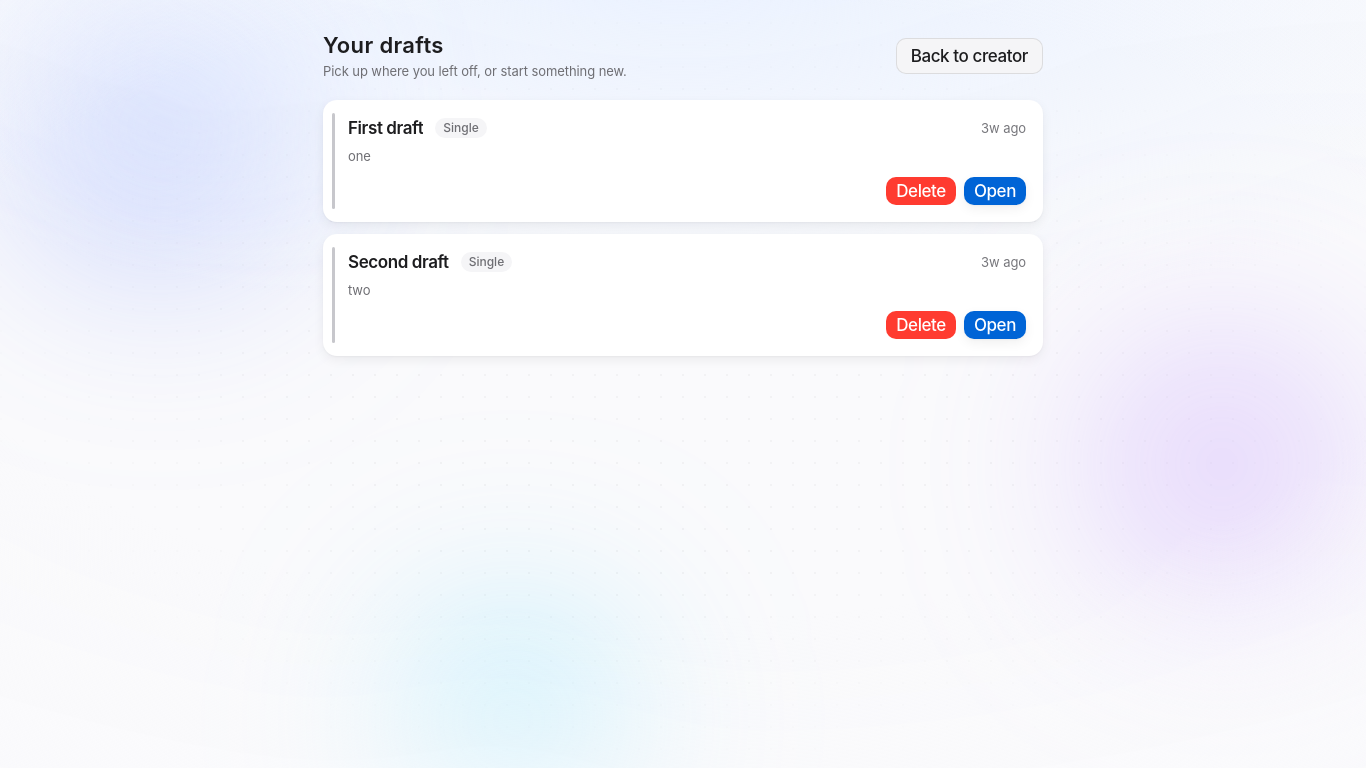
Test: DraftsDashboard › keeps the card and shows an error when delete fails
expect the link "First draft" is shown: met, box x1=348 y1=118 x2=423 y2=138
Step 1. Click the 1st button "Delete" → x=921, y=190, box x1=886 y1=176 x2=956 y2=204
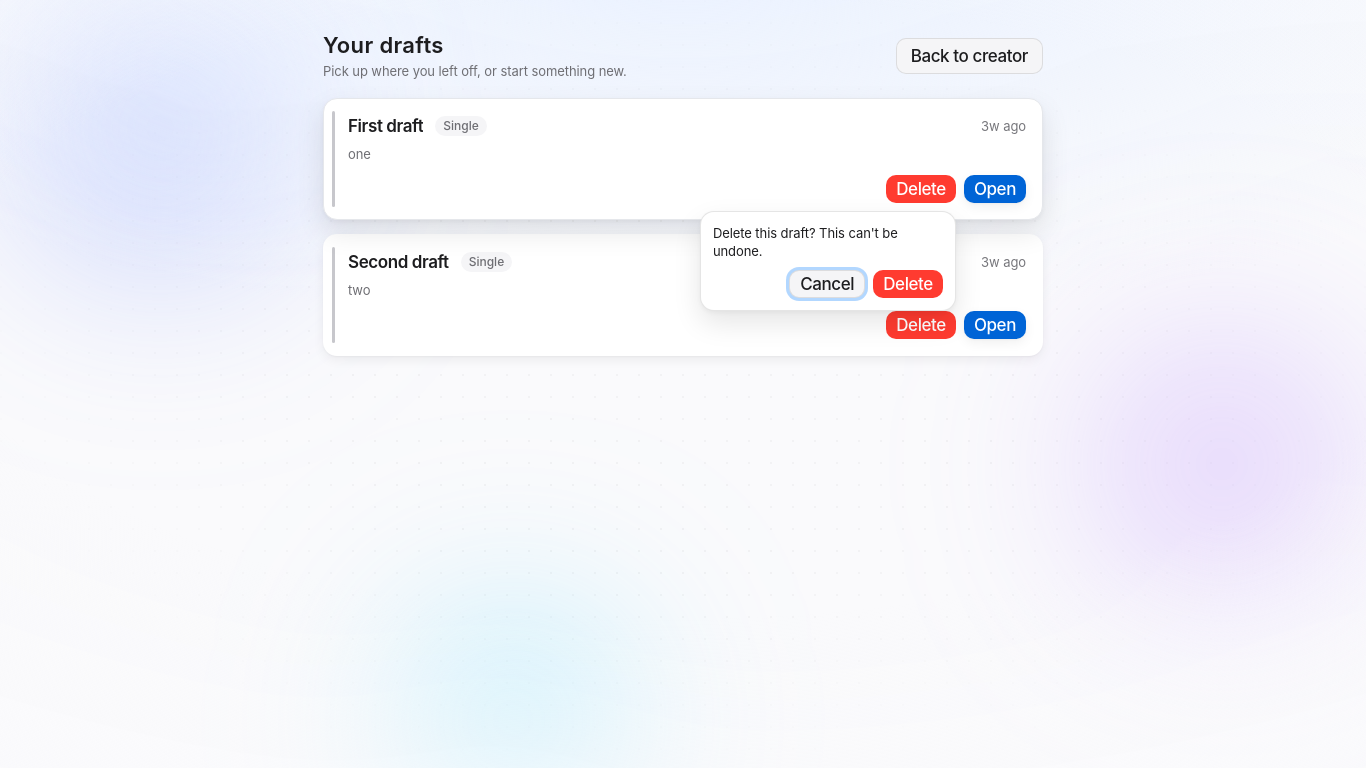
Step 2. Click the button "Delete" below "Delete this draft? This can't be undone." → x=908, y=284, box x1=873 y1=270 x2=943 y2=298
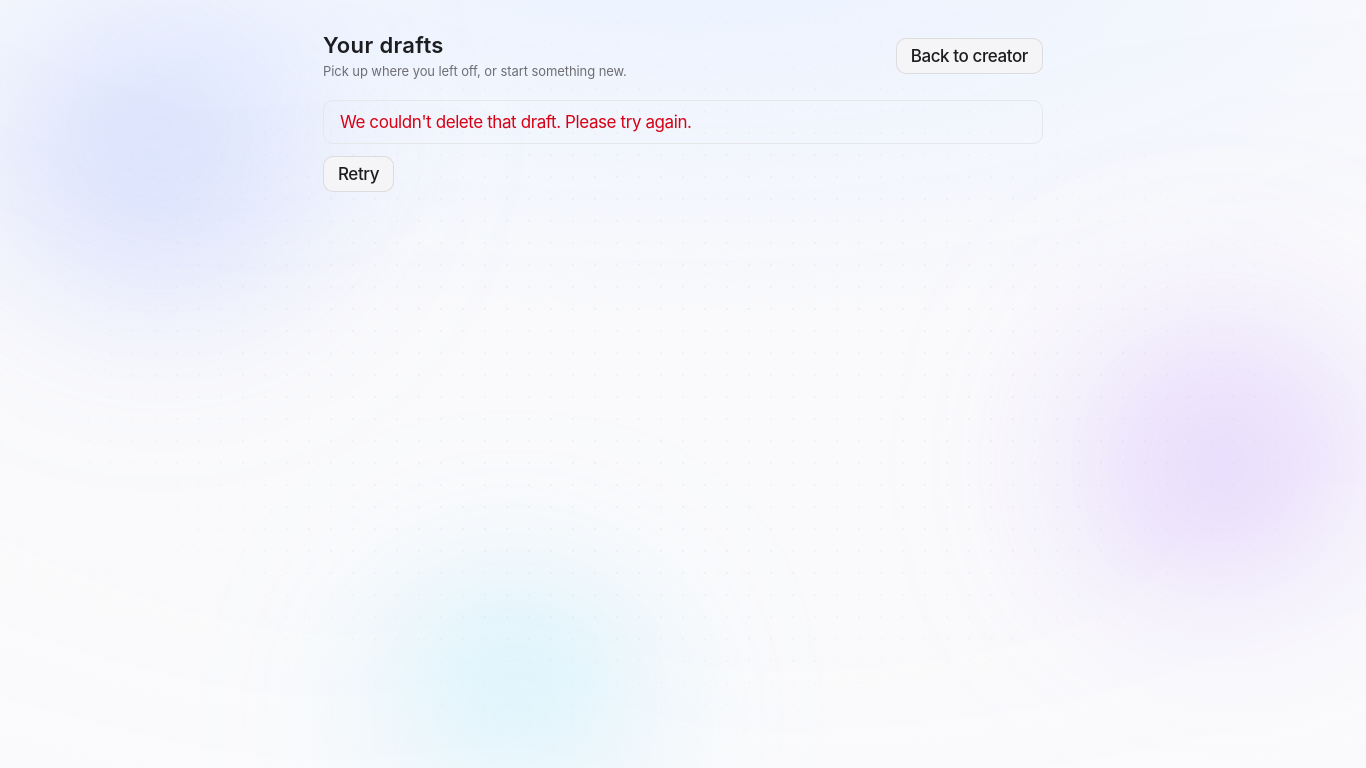
expect the message shows "couldn't delete": met, box x1=340 y1=112 x2=692 y2=132
